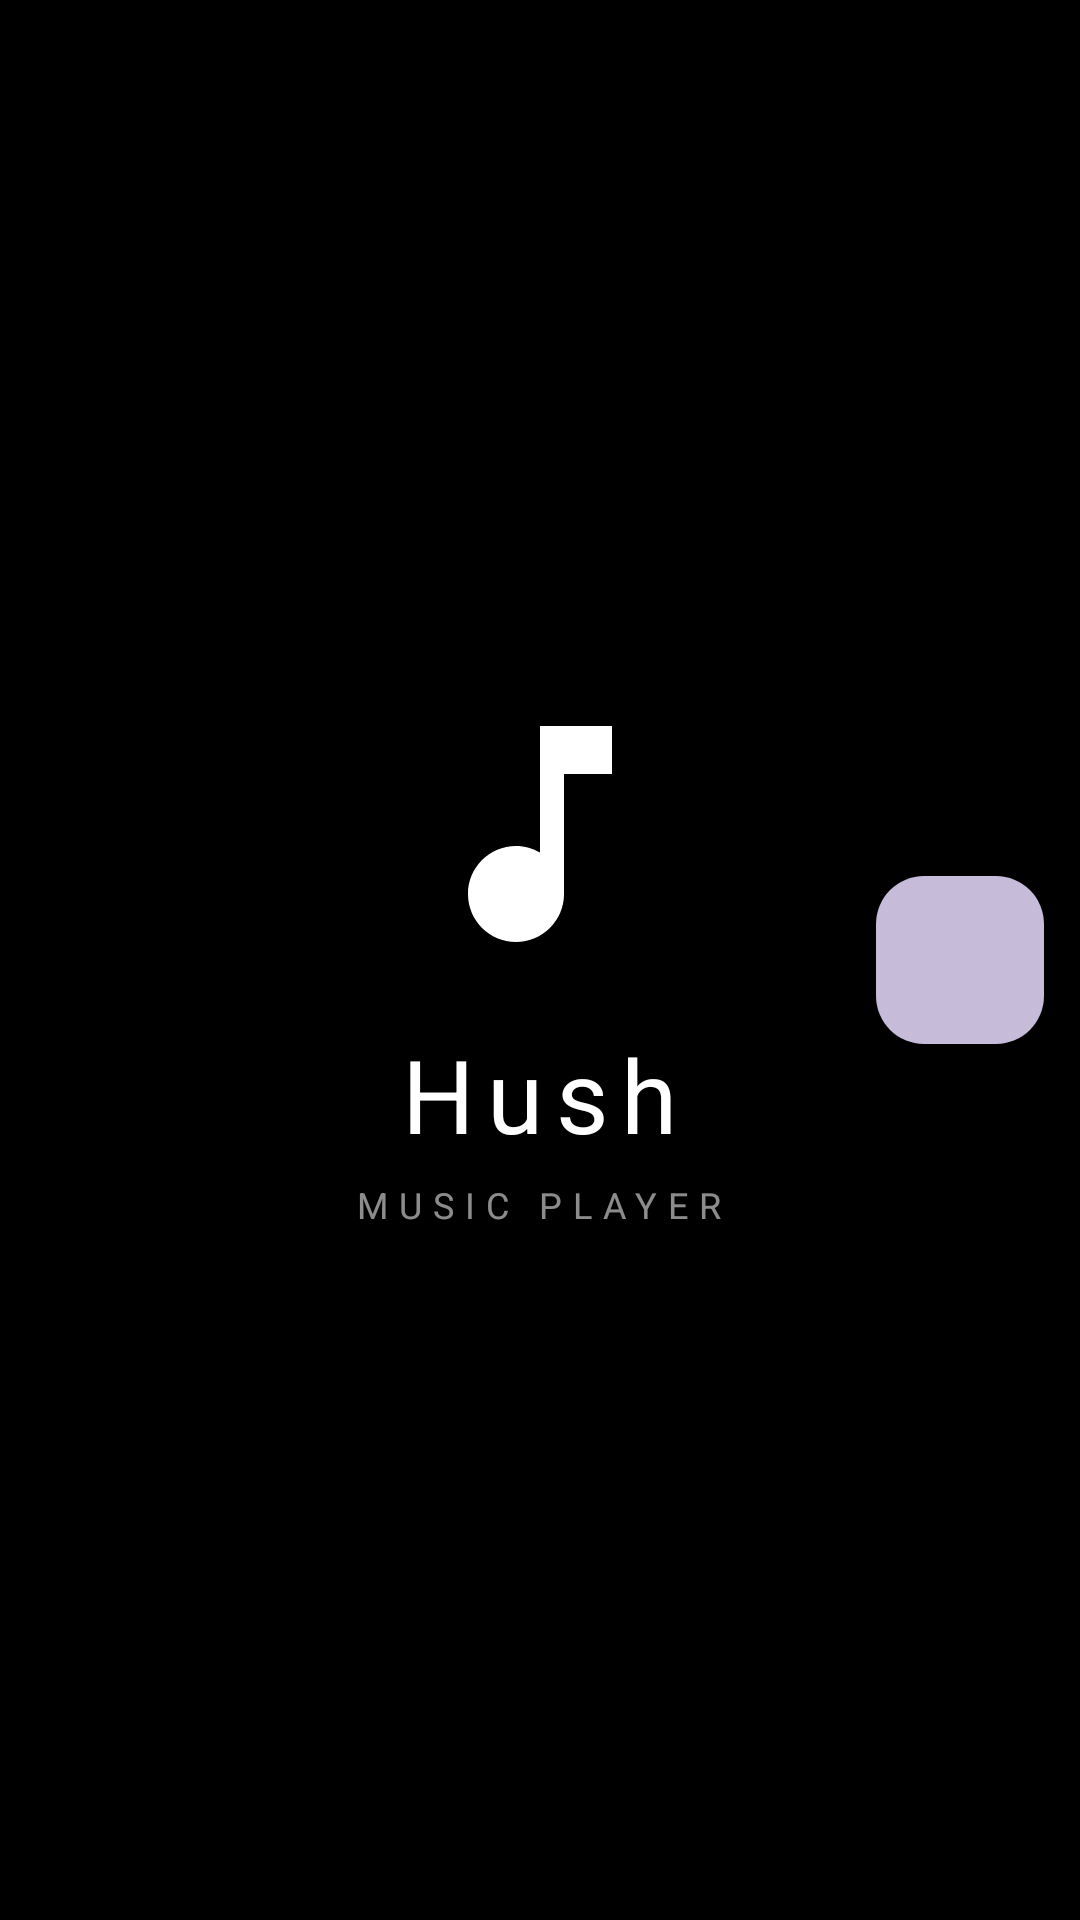

Icon bounding boxes for this 1080px x 1920px phone screenshot, format (x1, y1, x2, y2):
music: (468, 726, 612, 942)
